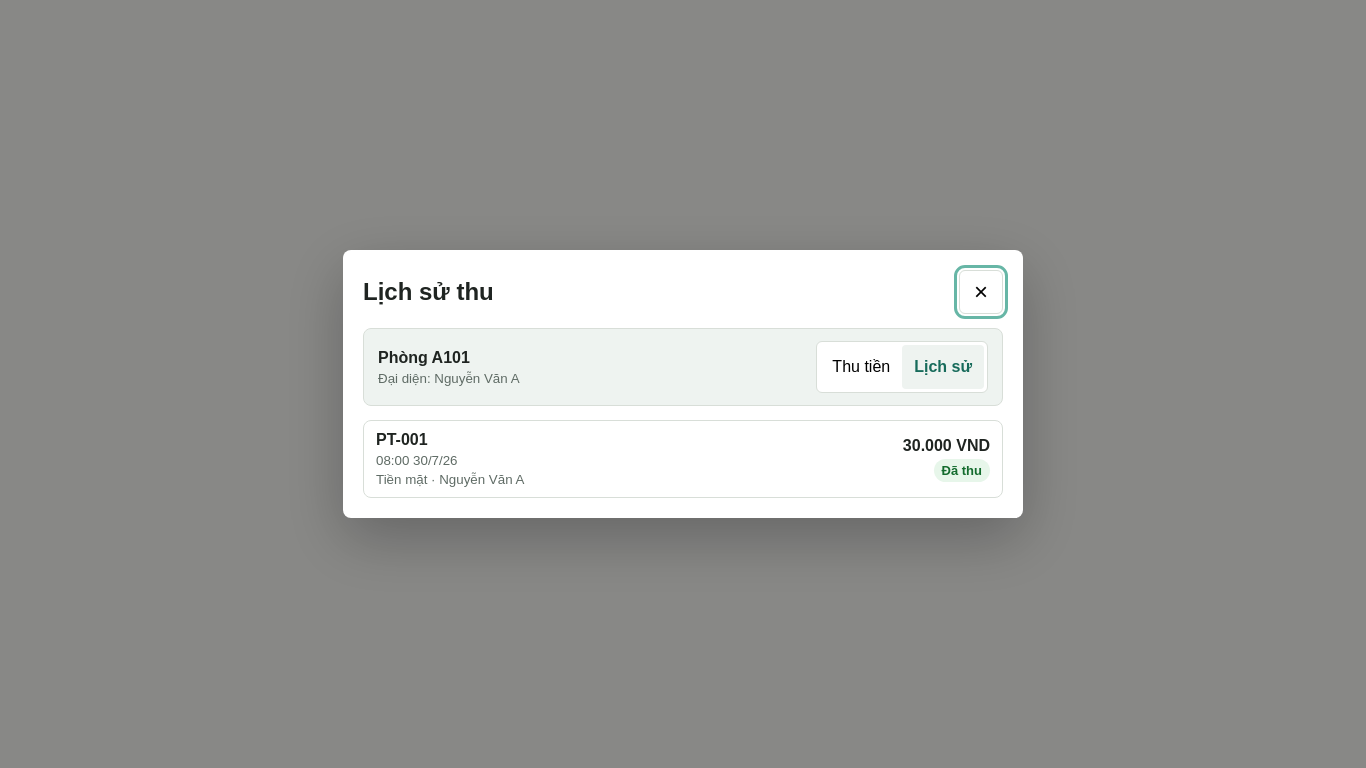
Scenario: ReceiptDialog › loads history and receipt detail
The image size is (1366, 768).
What coordinates should you click on to do the following:
click the button "PT-001"
I would click on:
 (402, 440)
Its box is 363,420 -> 1003,498.
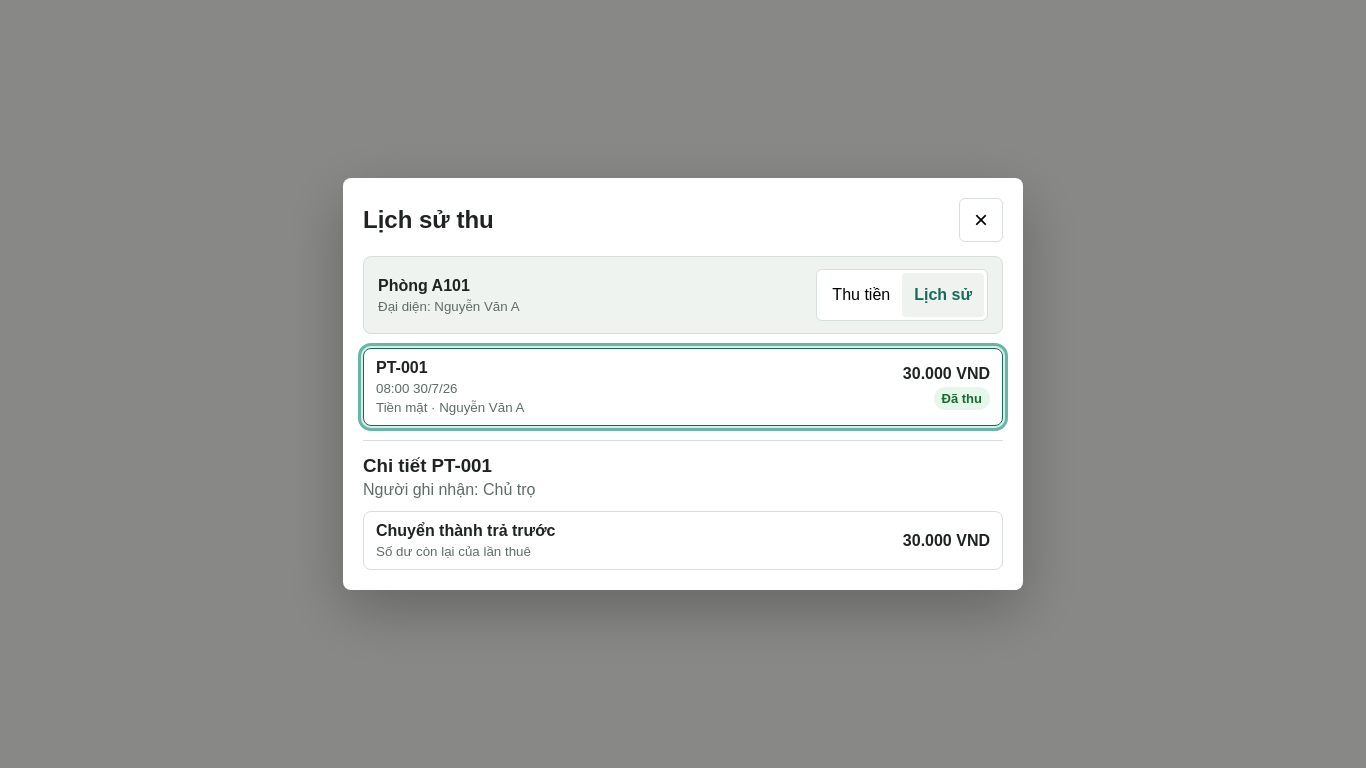
expect the heading "Chi tiết PT-001" is shown: met, box 363,455 -> 492,476
expect the text "Chuyển thành trả trước" is shown: met, box 376,522 -> 555,540
